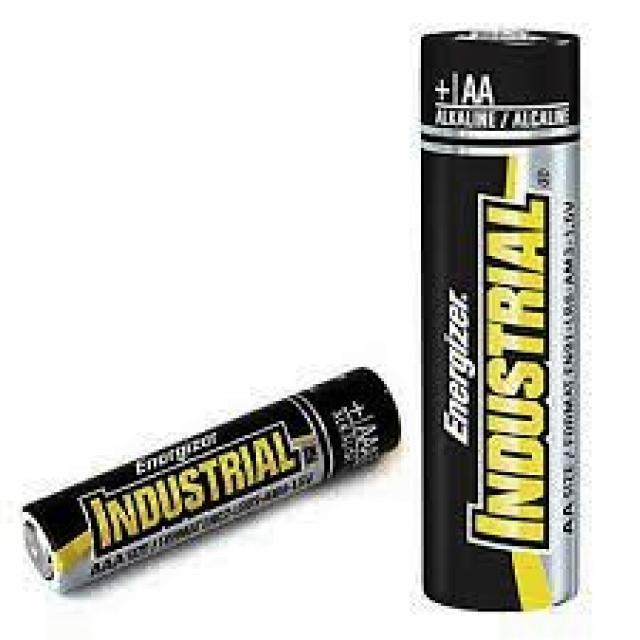battery: (419, 25, 582, 615), (18, 366, 401, 595)
